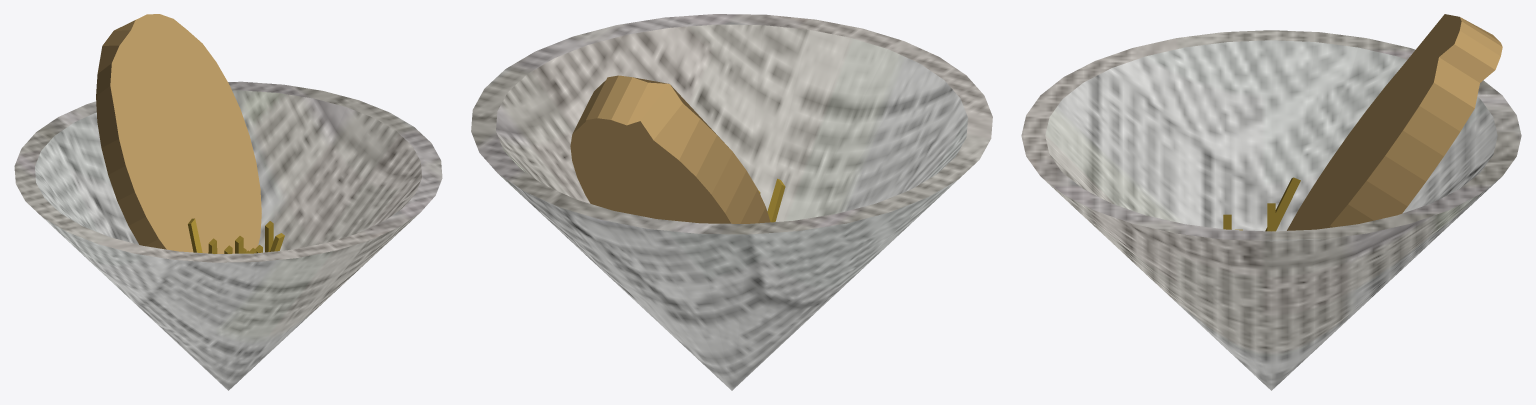
The model's file is FishandChips.glb.
The picture shows the model from 3 angles, left to right: view 1: azimuth 30°, elevation 25°; view 2: azimuth 150°, elevation 25°; view 3: azimuth 270°, elevation 25°; orthographic projection. The views are drawn at different scales.
Visible parts, largest first — view 1: Cone.001, Cylinder; view 2: Cone.001, Cylinder; view 3: Cone.001, Cylinder, Cube.005.
Part boxes in pixels (x1,y1,x2,y2): Cone.001: (14,81,442,390); Cylinder: (96,14,261,253); Cone.001: (471,14,992,390); Cylinder: (570,75,770,223); Cone.001: (1021,30,1521,390); Cylinder: (1287,14,1502,230); Cube.005: (1265,177,1300,231).
Size of the model in its own units: 0.6 by 0.4892 by 0.6.
Materials: 13 (1 with a texture image).
